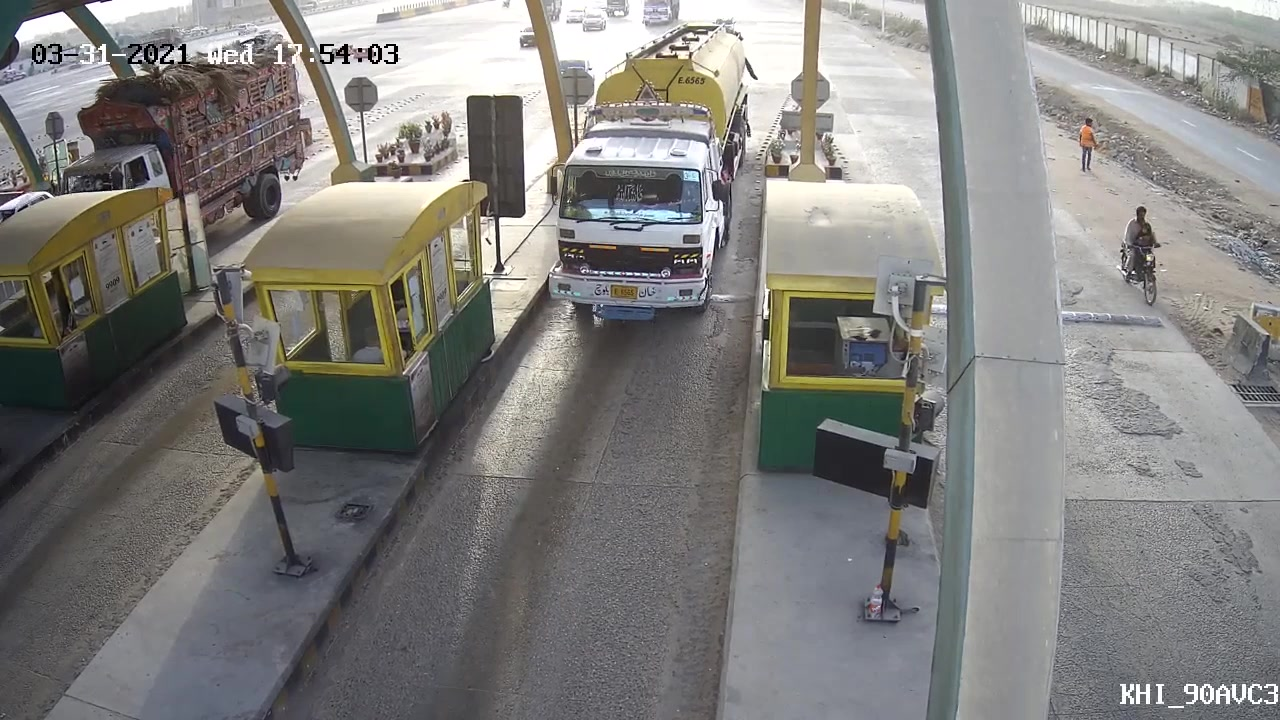F6: (529, 75, 743, 325)
